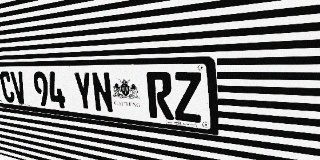4: (46, 72, 66, 109)
9: (32, 71, 51, 107)
C: (0, 71, 16, 103)
N: (91, 72, 114, 114)
R: (146, 72, 174, 120)
V: (10, 71, 28, 104)
Y: (73, 72, 95, 112)
Z: (172, 72, 203, 123)
